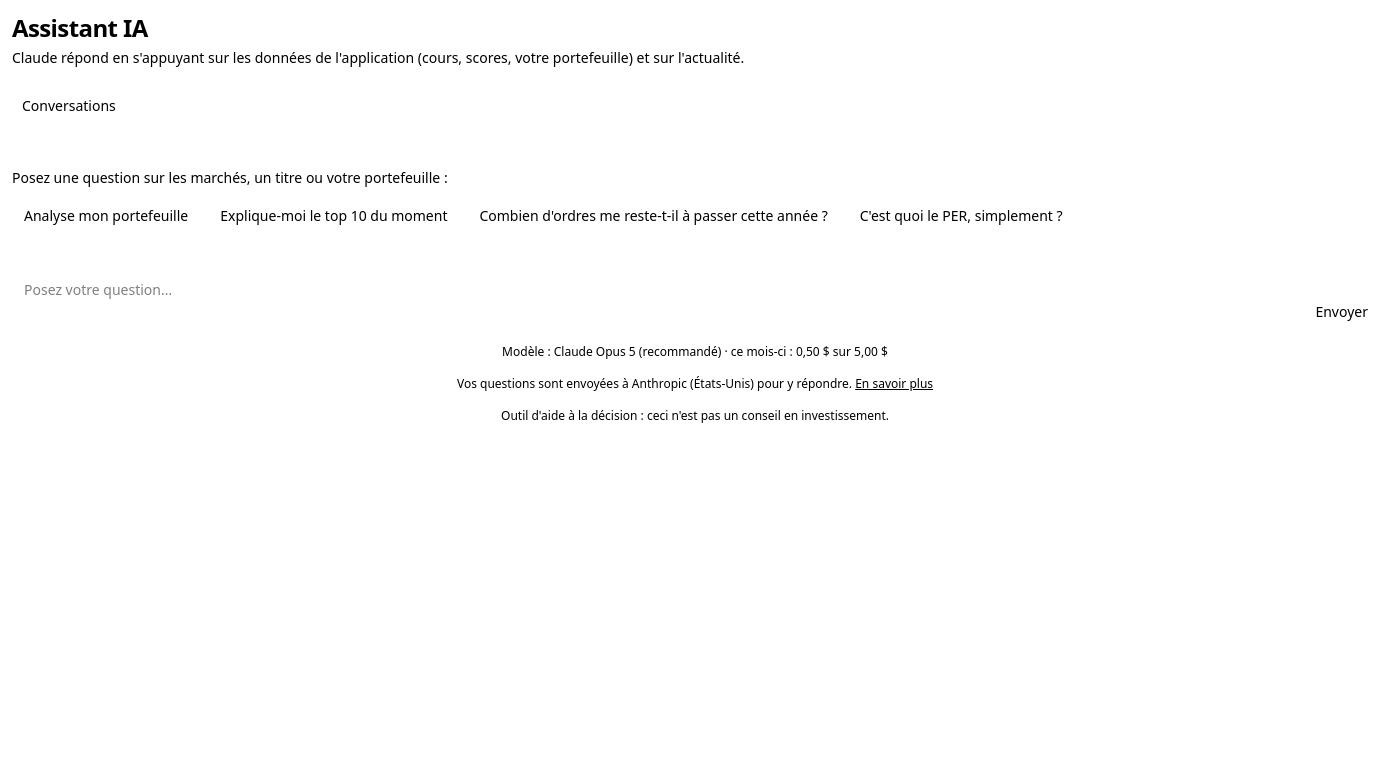
sur téléphone, la conversation prend l'écran et la liste s'ouvre à la demande
The image size is (1390, 780).
Check: the heading "Assistant IA" is shown, box [12,11,148,44]
Check: the button "+ Nouvelle conversation" is not shown
Click the button "Conversations": [69, 106] box [12,84,126,128]
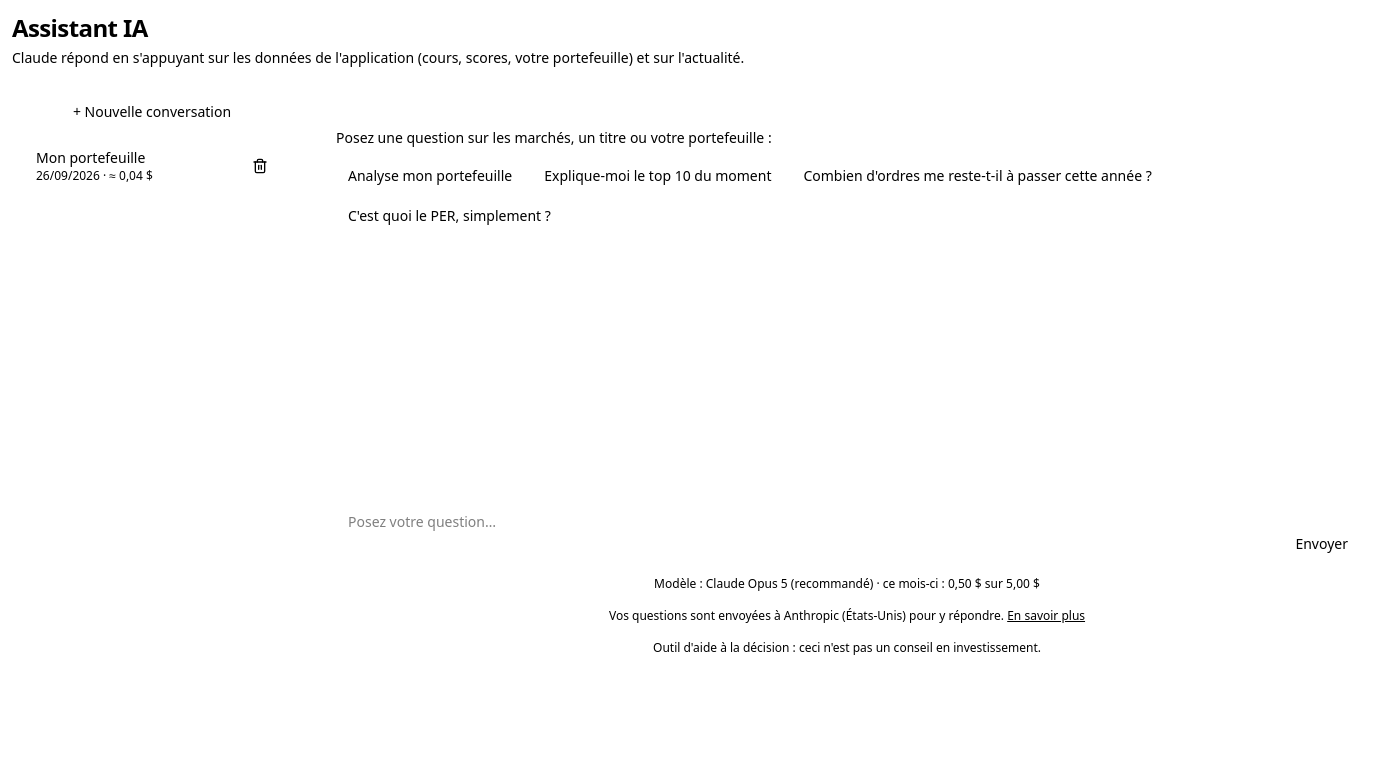
Check: the button "+ Nouvelle conversation" is shown, box [24,96,280,128]
Check: the button "Mon portefeuille 26/09/2026 · ≈ 0,04 $" is shown, box [24,140,248,192]
